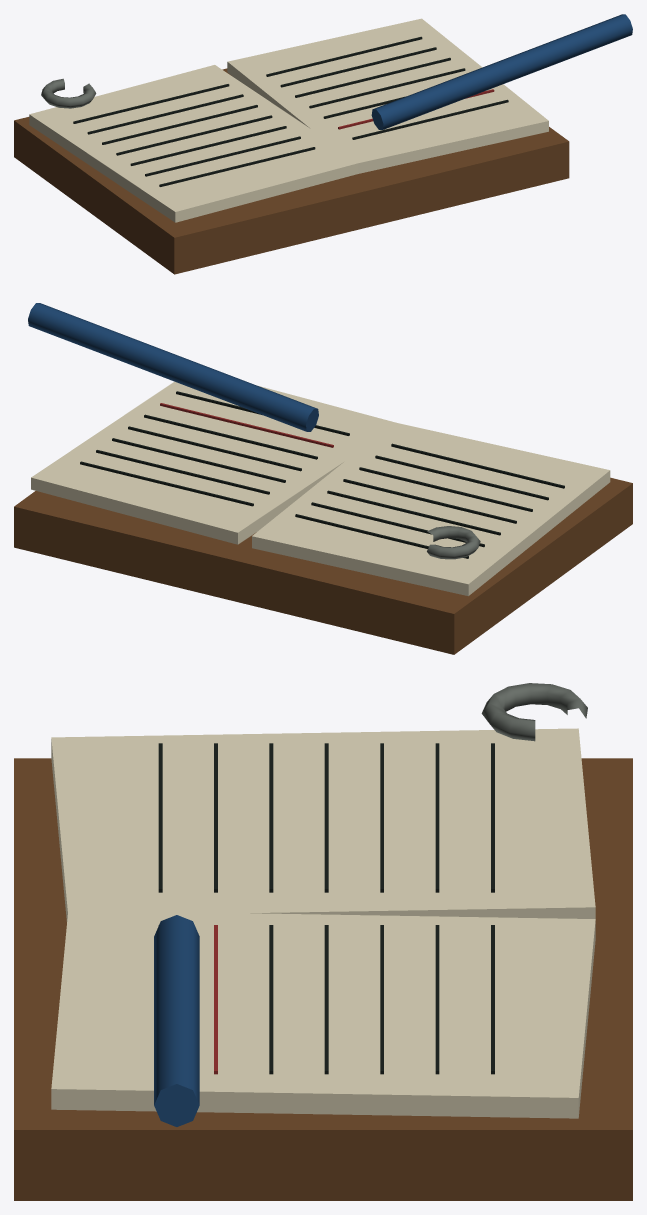
Rendered from ucb_impossible_sign_in_log_psx.glb.
The picture shows the model from 3 angles, top to bottom: view 1: azimuth 30°, elevation 25°; view 2: azimuth 150°, elevation 25°; view 3: azimuth 270°, elevation 25°; orthographic projection. The views are drawn at different scales.
Visible parts, largest first — view 1: guard_desk, logbook_left, logbook_right, ballpen, entry_line (×7), page_clip, entry_line_6, entry_line_0, entry_line_1, entry_line_3, entry_line_2; view 2: guard_desk, logbook_left, logbook_right, ballpen, entry_line (×7), page_clip, entry_line_3, entry_line_0, entry_line_1, entry_line_2, entry_line_4, entry_line_5; view 3: logbook_right, logbook_left, guard_desk, ballpen, page_clip, entry_line (×4), entry_line_3, entry_line_4, entry_line_1.
Boxes of the visible parts, x1=… form: guard_desk: x1=14, y1=68, x2=569, y2=274; logbook_left: x1=29, y1=65, x2=360, y2=222; logbook_right: x1=227, y1=18, x2=548, y2=173; ballpen: x1=371, y1=14, x2=632, y2=129; entry_line (×7): x1=73, y1=84, x2=315, y2=186; page_clip: x1=41, y1=78, x2=96, y2=108; entry_line_6: x1=352, y1=99, x2=508, y2=139; entry_line_0: x1=266, y1=36, x2=422, y2=76; entry_line_1: x1=280, y1=47, x2=436, y2=87; entry_line_3: x1=309, y1=68, x2=465, y2=108; entry_line_2: x1=295, y1=57, x2=450, y2=97; guard_desk: x1=14, y1=477, x2=632, y2=654; logbook_left: x1=252, y1=422, x2=610, y2=596; logbook_right: x1=31, y1=381, x2=393, y2=544; ballpen: x1=28, y1=303, x2=318, y2=431; entry_line (×7): x1=295, y1=443, x2=564, y2=558; page_clip: x1=427, y1=526, x2=480, y2=559; entry_line_3: x1=128, y1=426, x2=301, y2=471; entry_line_0: x1=80, y1=461, x2=253, y2=506; entry_line_1: x1=96, y1=450, x2=269, y2=494; entry_line_2: x1=112, y1=438, x2=285, y2=482; entry_line_4: x1=144, y1=414, x2=317, y2=459; entry_line_5: x1=160, y1=403, x2=333, y2=447; logbook_right: x1=51, y1=913, x2=595, y2=1118; logbook_left: x1=51, y1=728, x2=595, y2=921; guard_desk: x1=14, y1=758, x2=632, y2=1200; ballpen: x1=154, y1=915, x2=199, y2=1126; page_clip: x1=481, y1=683, x2=587, y2=741; entry_line (×4): x1=158, y1=743, x2=439, y2=892; entry_line_3: x1=324, y1=925, x2=328, y2=1074; entry_line_4: x1=269, y1=925, x2=273, y2=1074; entry_line_1: x1=435, y1=925, x2=439, y2=1074.
Size of the model in its own units: 3.39 by 0.7109 by 1.9.
